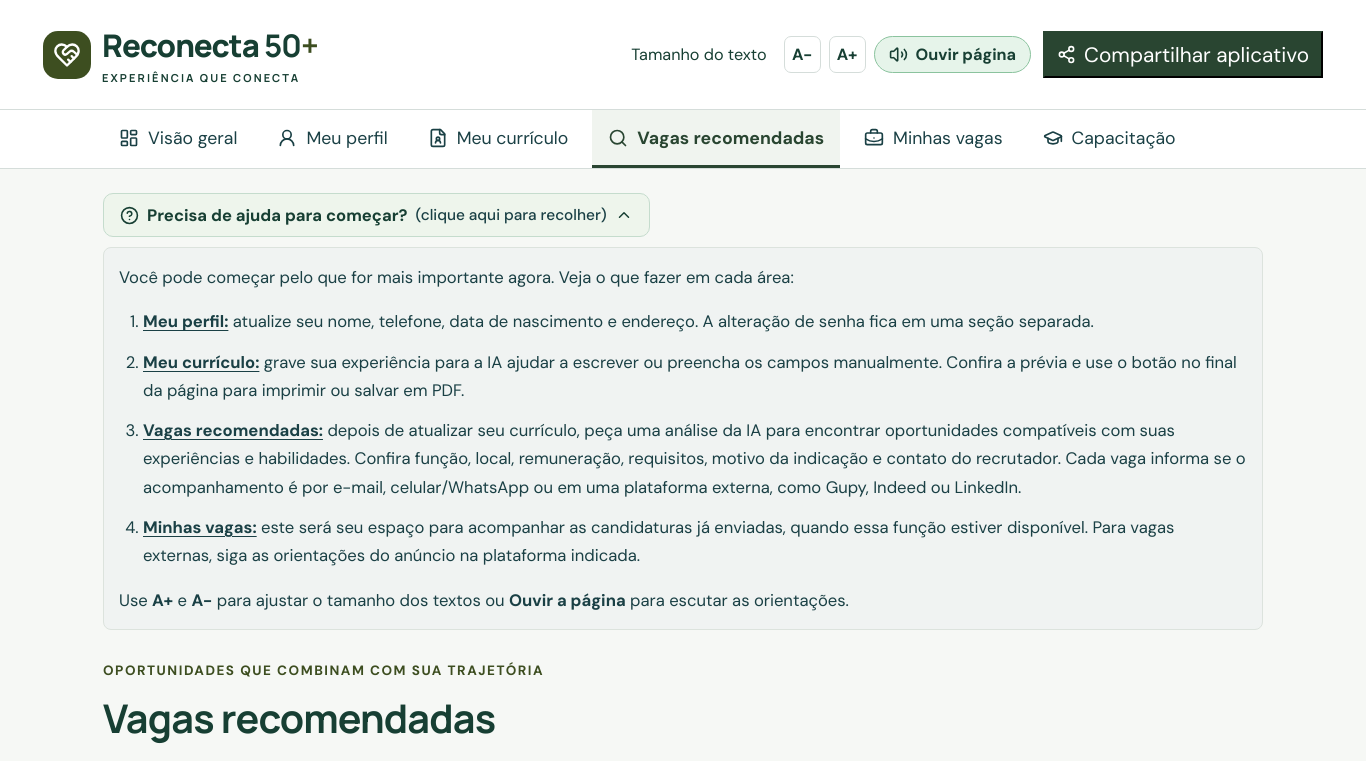
Test: Vagas recomendadas por currículo › mantém Minhas vagas como área separada na navegação
This screenshot has width=1366, height=761.
Click the link "Minhas vagas".
click(933, 138)  # box [864,126,1002,149]
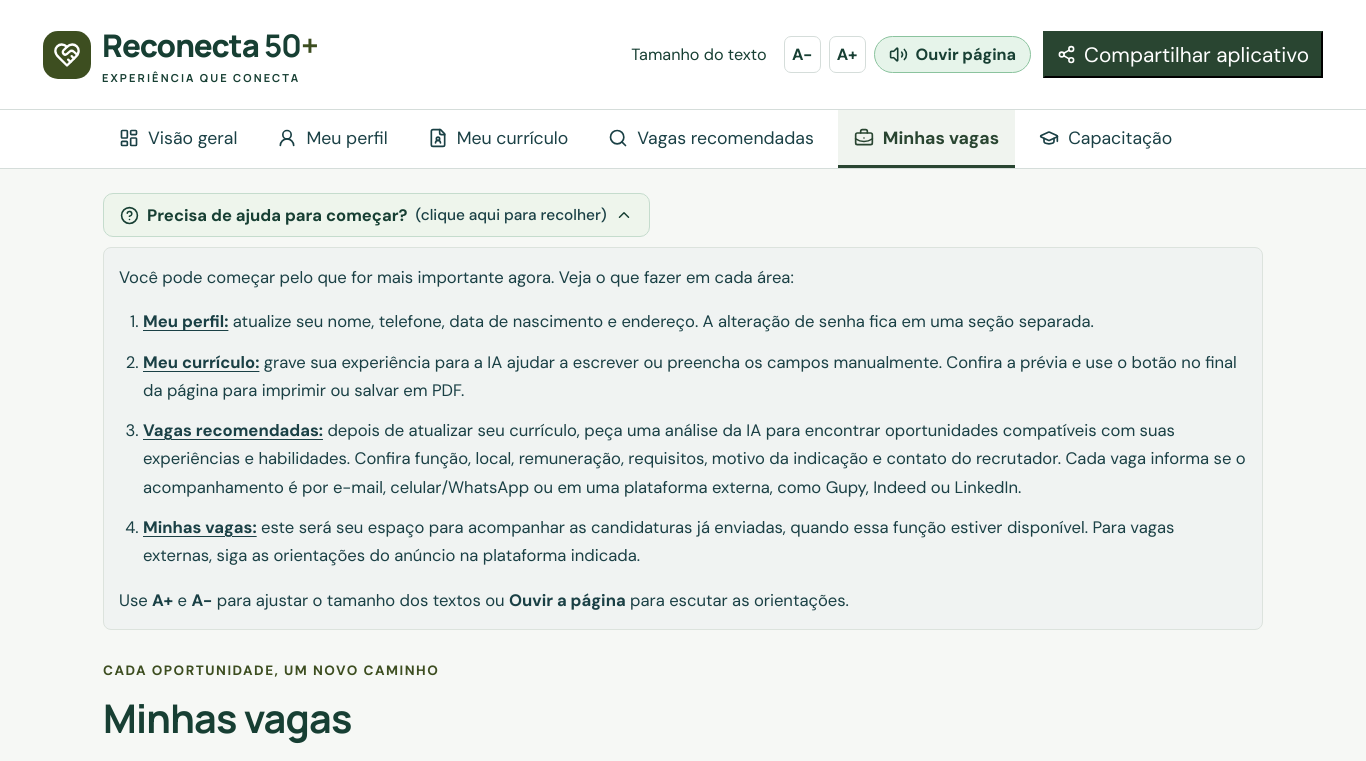
Now the heading reads "Minhas vagas", box [103,691,352,745]
